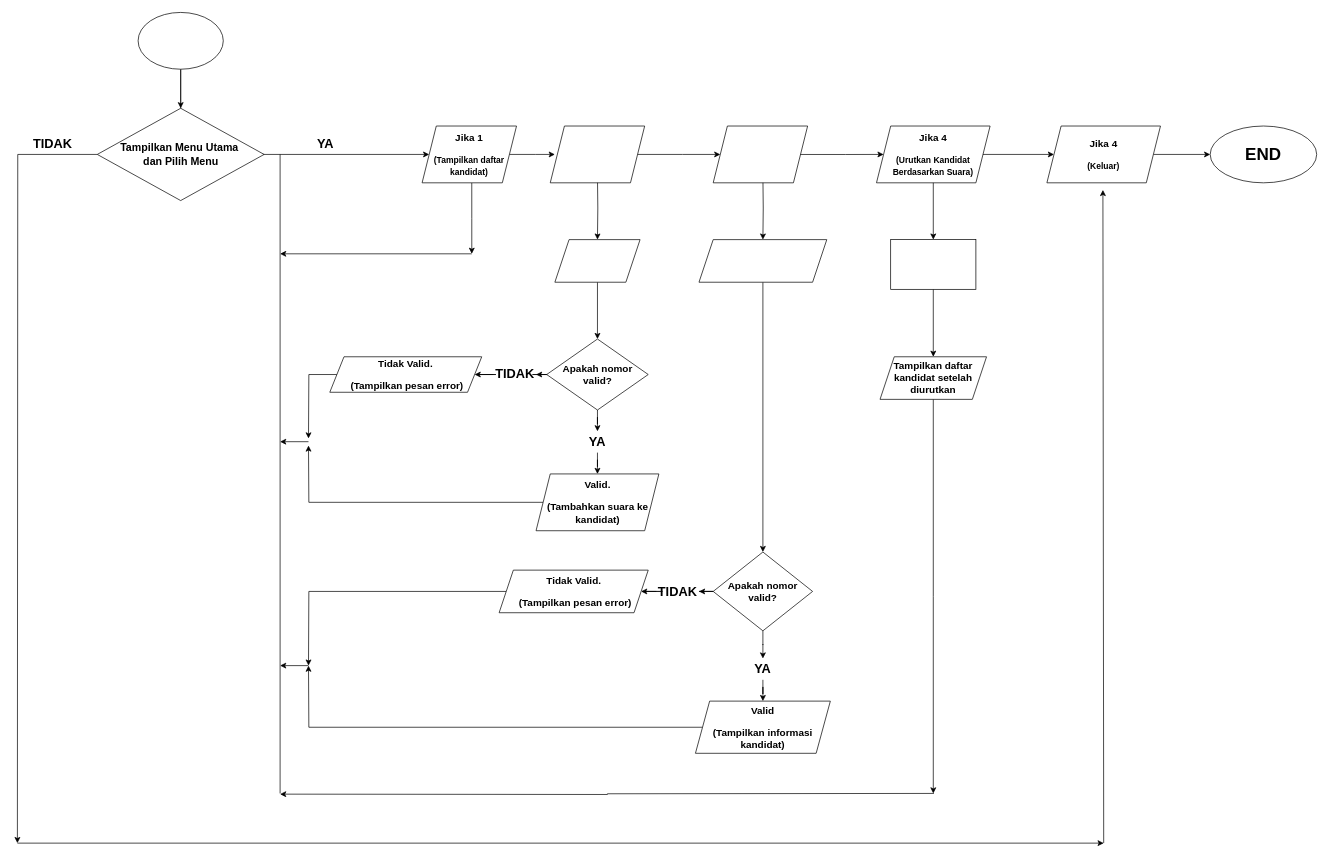
Some shapes in this 1329 by 861 pixel diagram are drawn without their labels. The centre of each missing label's shape, as x and y in pixels:
"Input nomor kandidat yang dicari" belongs at point 762,260.
"Input nomor kandidat yang ingin dipilih" belongs at point 597,260.
"Jika 2 ( Tampilkan daftar kandidat )" belongs at point 597,154.
"Jika 3 ( Tampilkan daftar kandidat )" belongs at point 760,154.
"Mengurutkan Hasil Berdasarkan Data Suara" belongs at point 933,264.
"START" belongs at point 180,40.
